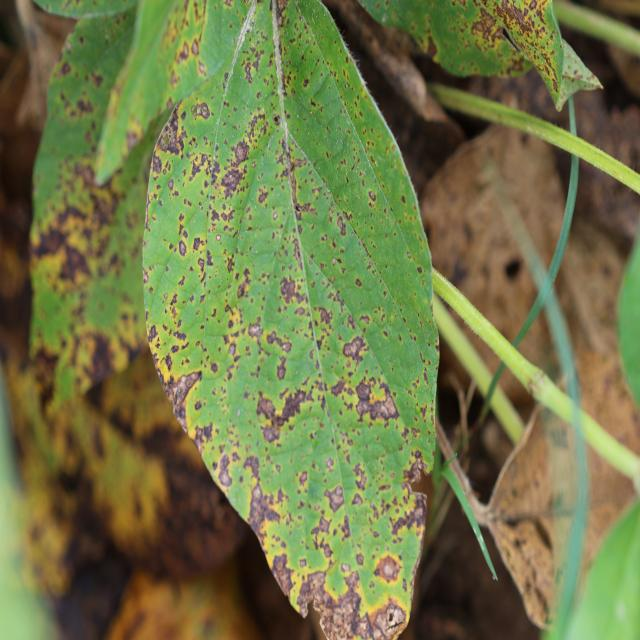Bacterial_Blight: (257, 384, 313, 433), (353, 374, 398, 425), (246, 479, 277, 541), (332, 577, 364, 634), (278, 264, 310, 318), (371, 597, 409, 640), (160, 107, 189, 158), (170, 371, 200, 417), (226, 132, 262, 169), (271, 552, 294, 592), (403, 450, 427, 486), (220, 164, 246, 197), (264, 329, 293, 357), (374, 553, 402, 582), (189, 151, 212, 184), (341, 333, 366, 362), (323, 484, 345, 513), (256, 394, 277, 422), (241, 453, 260, 480), (236, 272, 251, 299), (352, 464, 367, 490), (355, 380, 371, 402), (261, 425, 280, 443), (192, 103, 210, 119), (218, 468, 232, 487), (317, 515, 331, 533), (336, 215, 347, 237), (276, 359, 287, 381), (251, 484, 262, 504), (159, 132, 170, 151), (192, 236, 205, 252), (248, 322, 261, 338), (257, 188, 269, 205), (147, 324, 158, 342), (178, 240, 187, 257), (355, 552, 365, 566), (191, 39, 199, 55), (198, 62, 207, 75), (228, 343, 236, 356), (368, 190, 376, 202), (168, 178, 174, 190), (273, 114, 280, 124), (216, 234, 221, 242)
Soybean: (142, 0, 438, 640)
